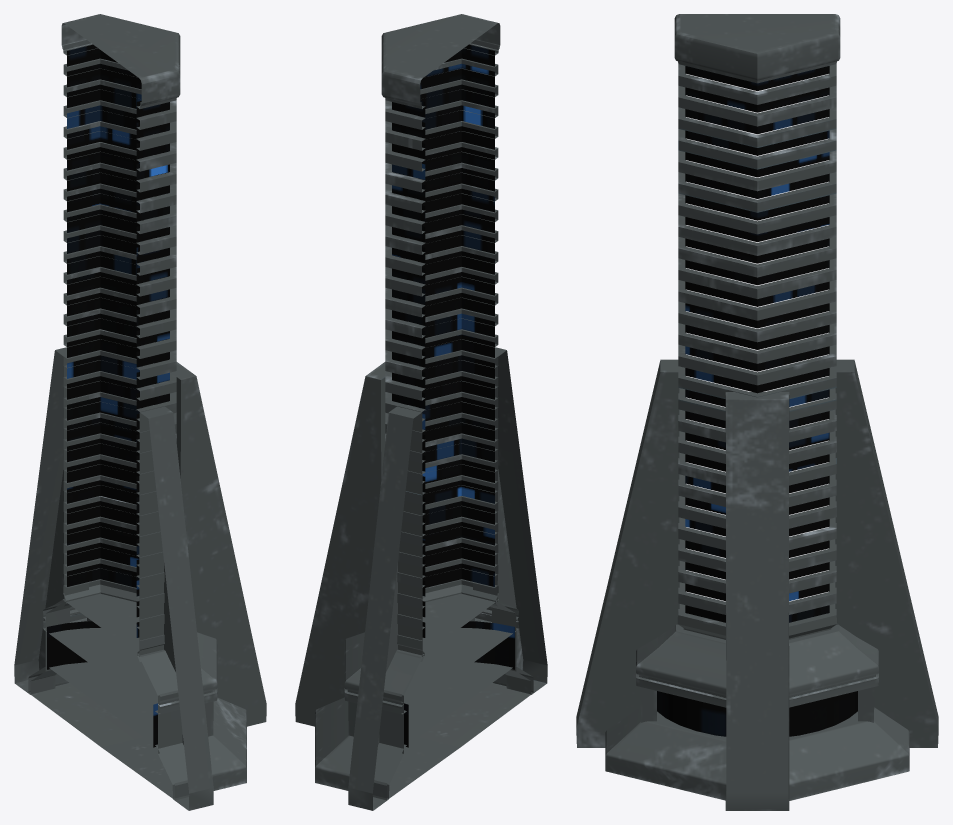
The model's file is Building_11.fbx.
3 views of the same model, side by side, from view 1: azimuth 30°, elevation 25°; view 2: azimuth 150°, elevation 25°; view 3: azimuth 270°, elevation 25° (orthographic). The views are drawn at different scales.
Parts seen in each view (by area): view 1: part_1, part_2; view 2: part_1, part_2; view 3: part_1, part_2.
Part boxes in pixels (x1,y1,x2,y2): part_1: [14, 14, 266, 810]; part_2: [47, 44, 169, 747]; part_1: [295, 14, 547, 810]; part_2: [392, 44, 514, 747]; part_1: [576, 14, 938, 810]; part_2: [657, 66, 857, 736].
Bounding box in the file's own units: 5.26 × 23.11 × 10.52.
2 materials, 2 textured.
